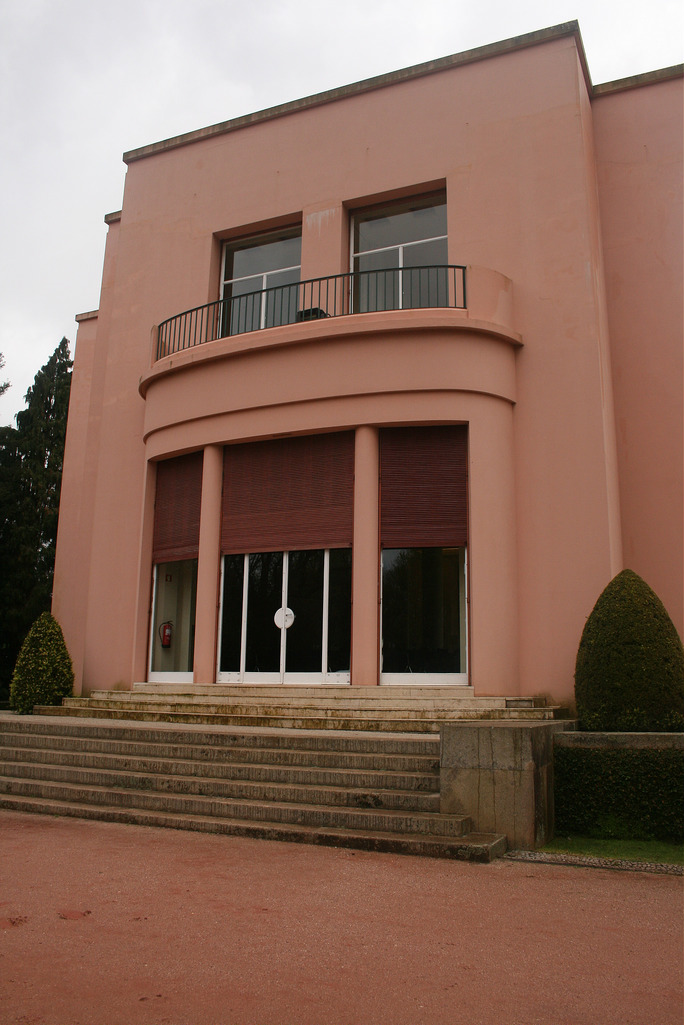serralves: (42, 14, 683, 701)
